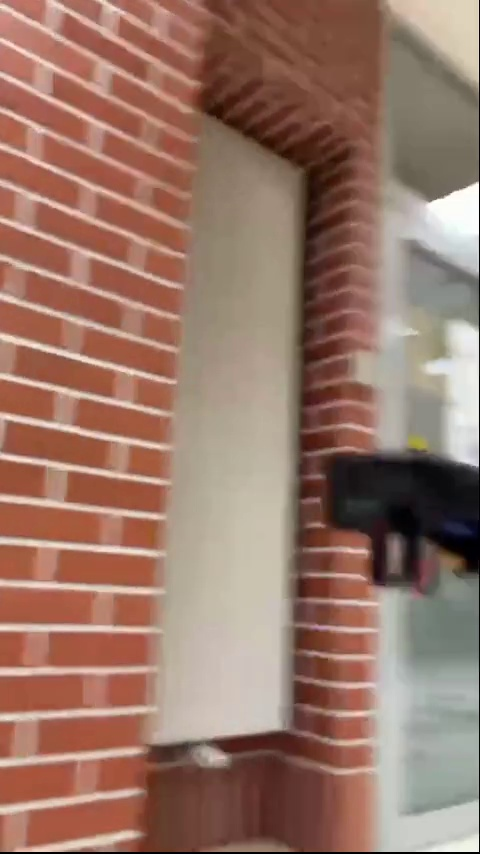drone: (315, 445, 480, 587)
